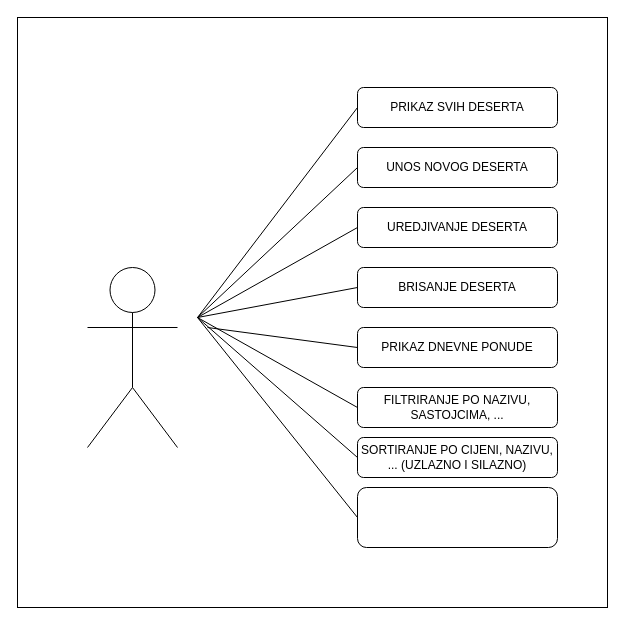
Image size: 625x625. Some labels were removed from this diagram. Each missing label, with the box of its shape:
Korisnik: (86, 266, 178, 448)
PREGLED STATISTIKA PRODAJE UNUTAR ODREDJENOG RAZDOBLJA, PROFITA ITD.: (356, 486, 558, 548)
